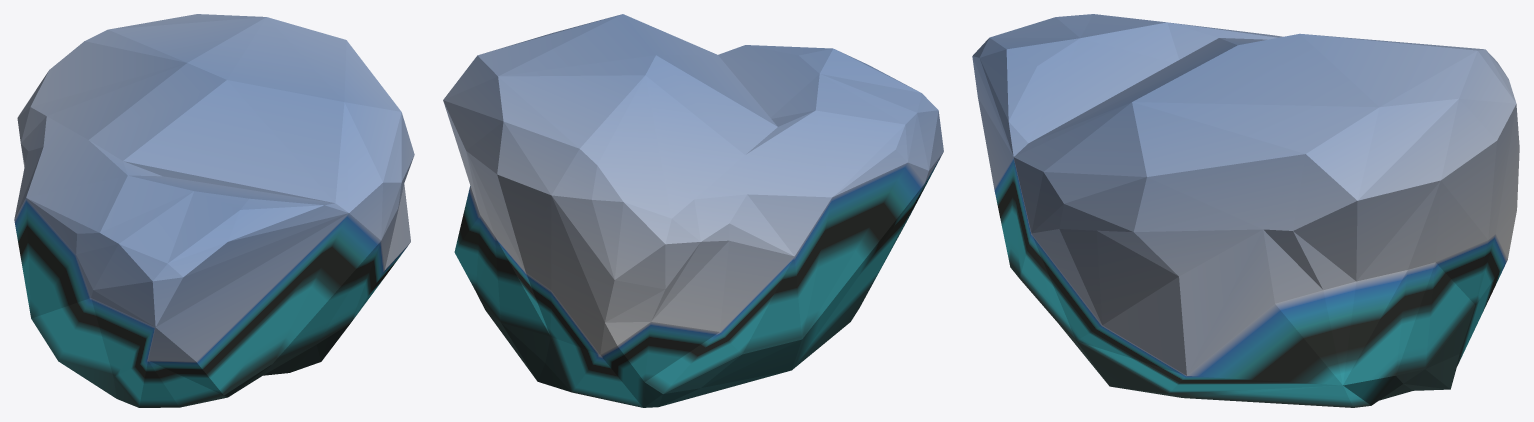
Rendered from SM_Gen_Env_Rock_02.glb.
3 renders of one model, left to right at view 1: azimuth 30°, elevation 25°; view 2: azimuth 150°, elevation 25°; view 3: azimuth 270°, elevation 25°, orthographic. The views are drawn at different scales.
Visible parts, largest first — view 1: SM_Gen_Env_Rock_02; view 2: SM_Gen_Env_Rock_02; view 3: SM_Gen_Env_Rock_02.
Boxes of the visible parts, left/top/right/bottom form: SM_Gen_Env_Rock_02: left=14, top=14, right=414, bottom=407; SM_Gen_Env_Rock_02: left=443, top=14, right=943, bottom=407; SM_Gen_Env_Rock_02: left=972, top=14, right=1519, bottom=407.
Size of the model in its own units: 2.07 by 1.46 by 2.18.
1 material, 1 textured.
